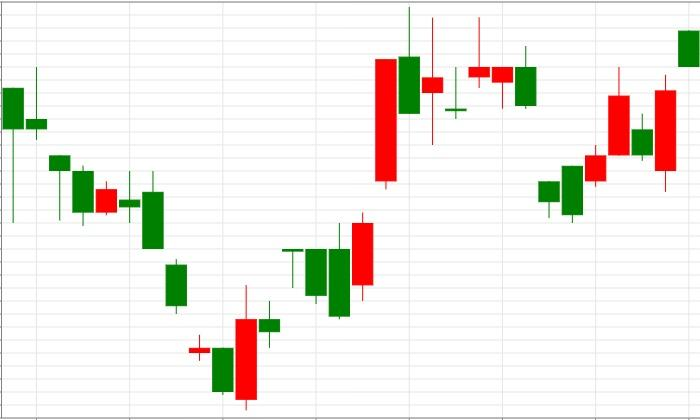bullish_engulfing_rise: (119, 170, 257, 411)
